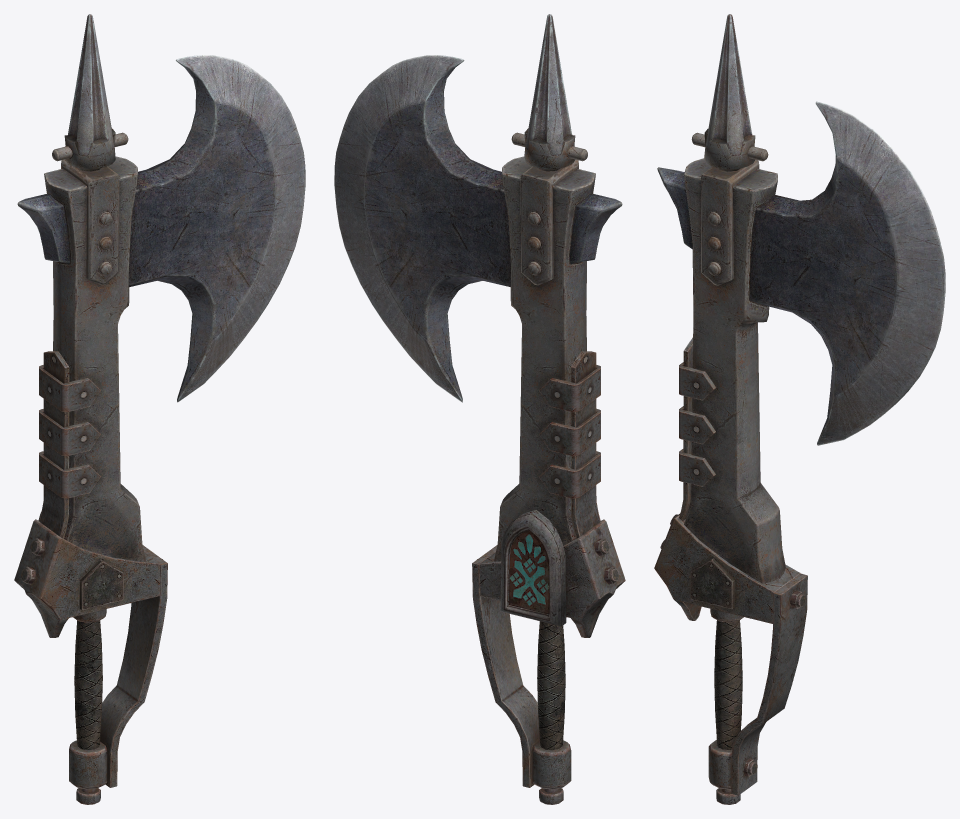
The model's file is bs_sou002.obj.
3 renders of one model, left to right at view 1: azimuth 30°, elevation 25°; view 2: azimuth 150°, elevation 25°; view 3: azimuth 330°, elevation 25°, orthographic.
Visible parts, largest first — view 1: bs_sou002_000_LOD_1; view 2: bs_sou002_000_LOD_1; view 3: bs_sou002_000_LOD_1.
Part boxes in pixels (x1,y1,x2,y2): bs_sou002_000_LOD_1: (14, 14, 305, 804); bs_sou002_000_LOD_1: (334, 14, 625, 804); bs_sou002_000_LOD_1: (654, 14, 945, 804).
Bounding box in the file's own units: 40.41 × 105 × 10.18.
